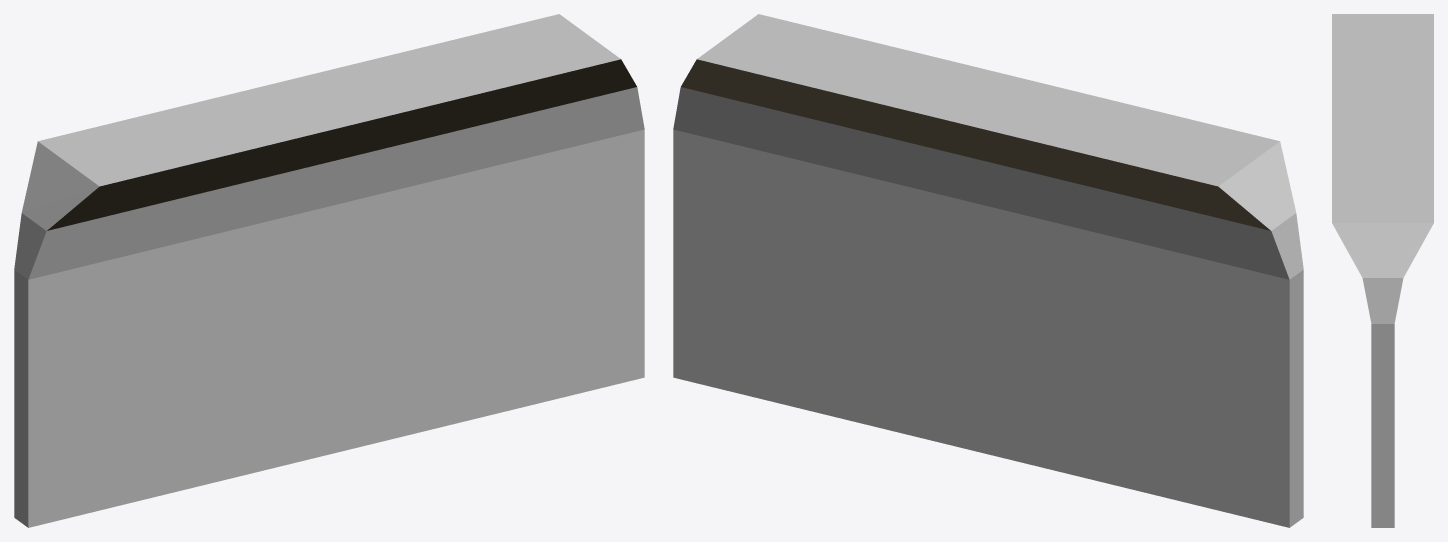
Rendered from EVT_WALLMOVER_01.OBJ.
The picture shows the model from 3 angles, left to right: view 1: azimuth 30°, elevation 25°; view 2: azimuth 150°, elevation 25°; view 3: azimuth 270°, elevation 25°; orthographic projection. The views are drawn at different scales.
Parts seen in each view (by area): view 1: EVT_WALLMOVER_01; view 2: EVT_WALLMOVER_01; view 3: EVT_WALLMOVER_01.
Boxes of the visible parts, x1,y1,x2,y2 form: EVT_WALLMOVER_01: [14, 14, 644, 527]; EVT_WALLMOVER_01: [673, 14, 1303, 527]; EVT_WALLMOVER_01: [1332, 14, 1433, 527].
Bounding box in the file's own units: 6.5 × 3.5 × 1.13.
